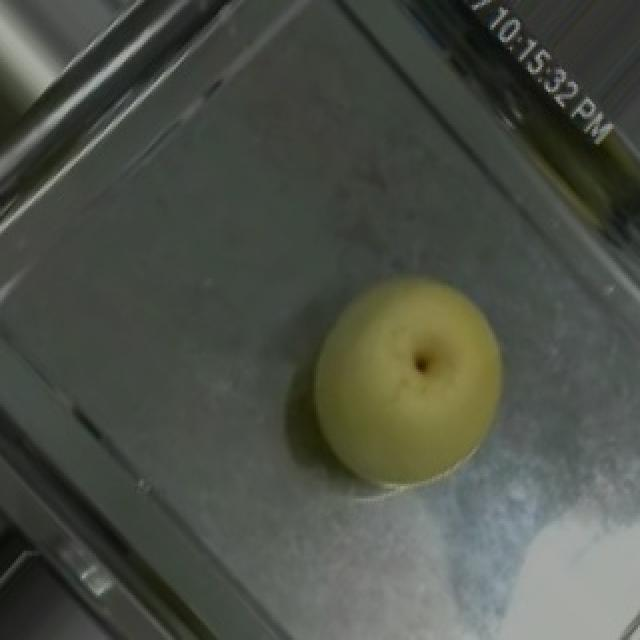Fruit: (268, 234, 550, 528)
